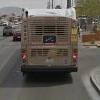Bus: (13, 3, 82, 85)
